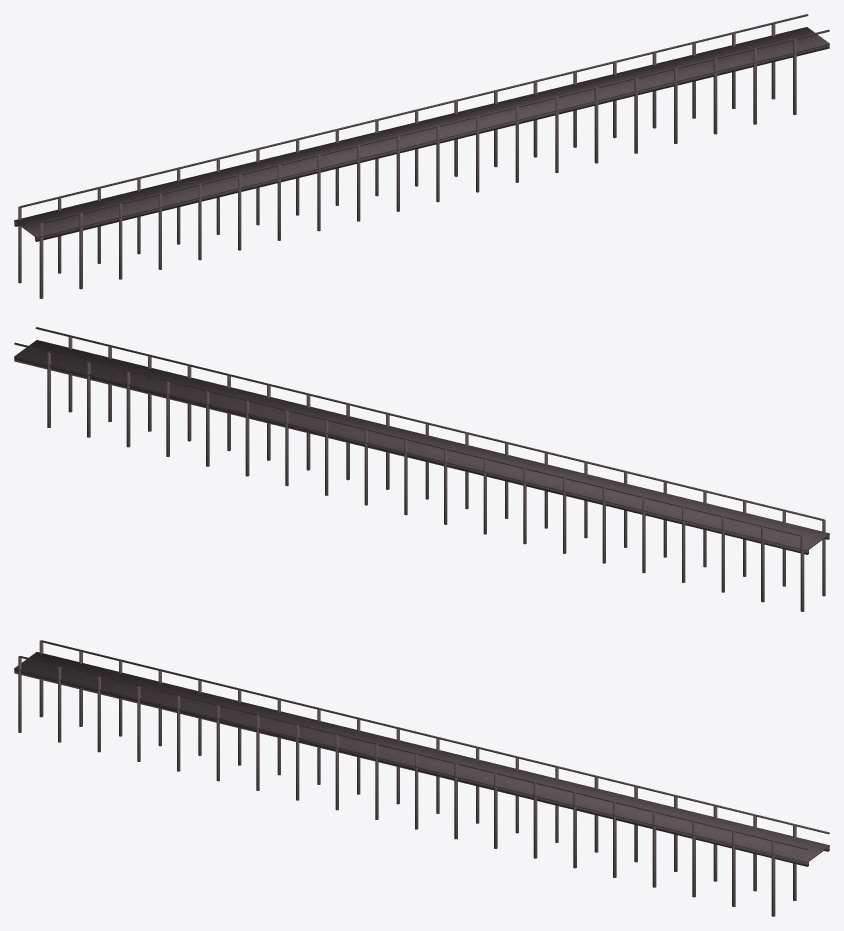
Rendered from SM_Island_Pier.fbx.
3 renders of one model, top to bottom at view 1: azimuth 30°, elevation 25°; view 2: azimuth 150°, elevation 25°; view 3: azimuth 330°, elevation 25°, orthographic.
Parts seen in each view (by area): view 1: SM_Island_Pier; view 2: SM_Island_Pier; view 3: SM_Island_Pier.
Part boxes in pixels (x1,y1,x2,y2): SM_Island_Pier: (14, 14, 829, 298); SM_Island_Pier: (14, 327, 829, 611); SM_Island_Pier: (14, 640, 829, 916).
Bounding box in the file's own units: 6000 × 550 × 304.
1 material, 1 textured.
